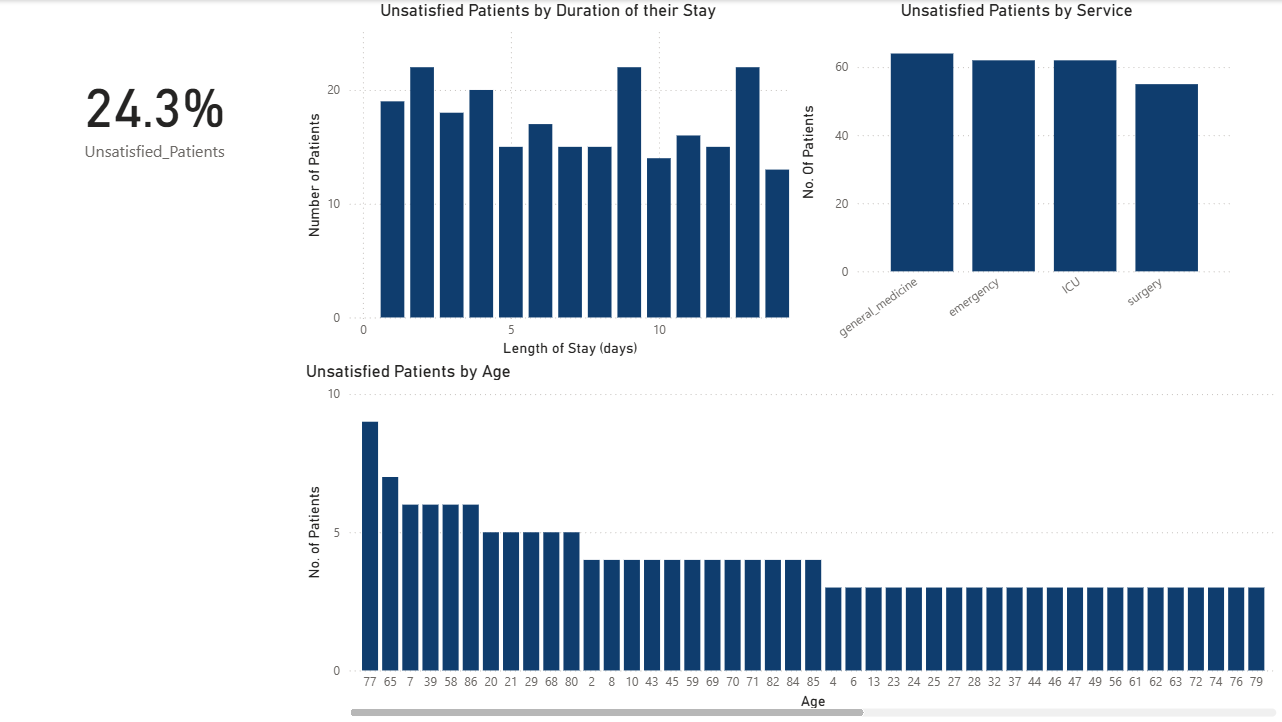

What the dashboard file says about the page in this screenshot:
{"tool":"powerbi","page":{"name":"Unsatisfied Patients","canvas":[1280,720],"ordinal":1},"visuals":[{"type":"card","fields":{"Values":["patients.Unsatisfied_Patients"]},"box":[9.9,0,292.5,223.2],"z":0},{"type":"clusteredColumnChart","title":"Unsatisfied Patients by Duration of their Stay","fields":{"Y":["CountNonNull(patients.satisfaction)"],"Category":["patients.Length_of_stay"]},"box":[302.4,0,492.6,359.6],"z":1000},{"type":"clusteredColumnChart","title":"Unsatisfied Patients by Service","fields":{"Category":["patients.service"],"Y":["CountNonNull(patients.satisfaction)"]},"box":[795.1,0,442.1,359.6],"z":3000},{"type":"clusteredColumnChart","title":"Unsatisfied Patients by Age","fields":{"Y":["CountNonNull(patients.satisfaction)"],"Category":["patients.age"]},"box":[302.4,359.6,977.6,359.6],"z":4000}]}

Visuals, with their boxes in screenshot pixels (x1, y1, x2, y2), scaled from the page's 1280x720 canvas onto the 1282x722 screenshot:
card - patients.Unsatisfied_Patients: bbox=(10, 0, 303, 224)
"Unsatisfied Patients by Duration of their Stay" clusteredColumnChart: bbox=(303, 0, 796, 361)
"Unsatisfied Patients by Service" clusteredColumnChart: bbox=(796, 0, 1239, 361)
"Unsatisfied Patients by Age" clusteredColumnChart: bbox=(303, 361, 1281, 721)
